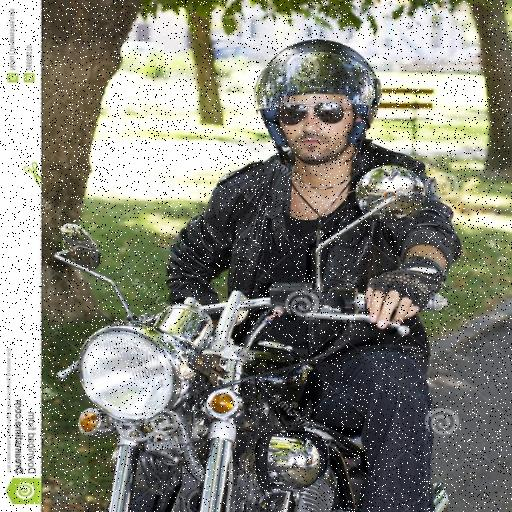Helmet: (252, 36, 386, 167)
Motor: (97, 275, 464, 512)
